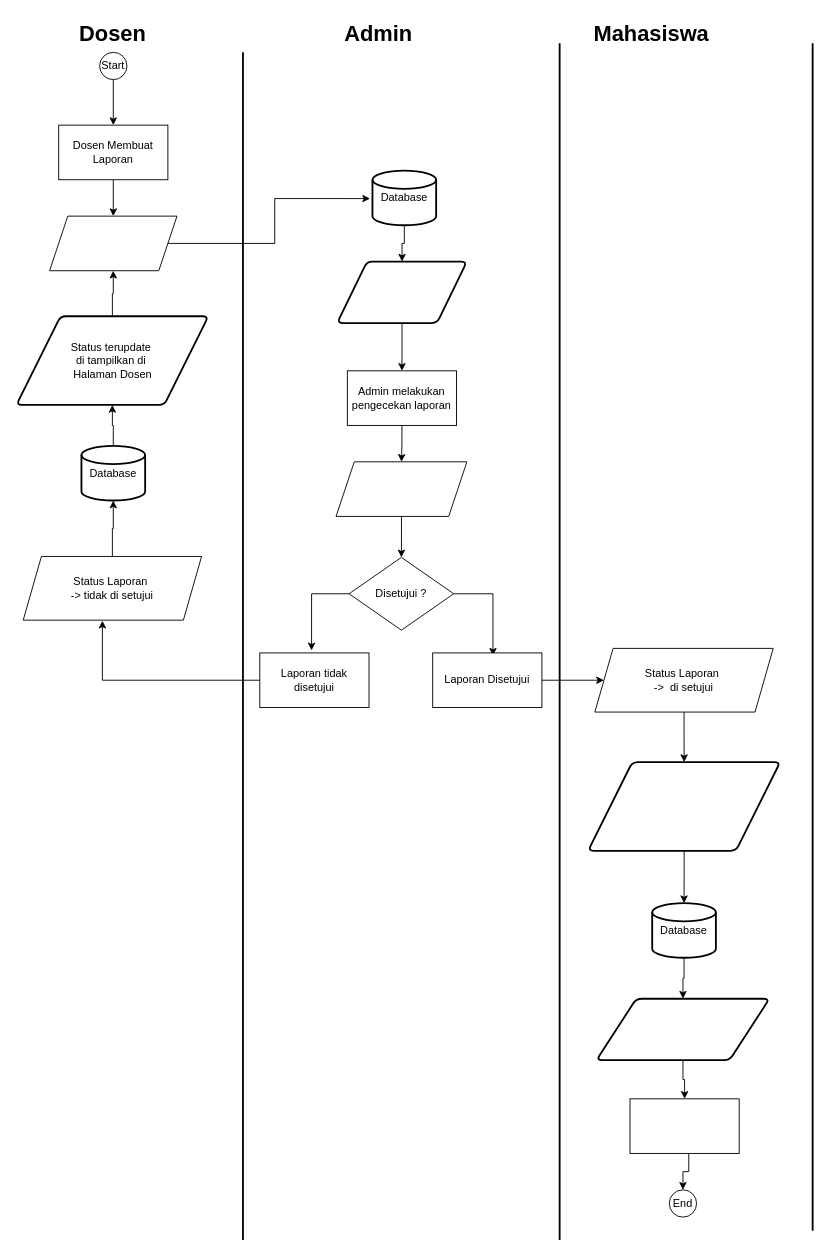
The diagram is 836 pixels wide and 1256 high, and some of its shapes have lost their labels. Each missing label, with the centre of its shape:
"Admin Mengirim Persetujuan Laporan" belongs at point 401,488.
"Data ditampilkan dihalaman Admin" belongs at point 401,292.
"Data ditampilkan dihalaman Mahasiswa" belongs at point 682,1029.
"Dosen Input laporan" belongs at point 113,243.
"Mahasiswa Melihat Laporan" belongs at point 684,1125.
"Status terupdate di tampilkan di Halaman Mahasiswa" belongs at point 684,806.
